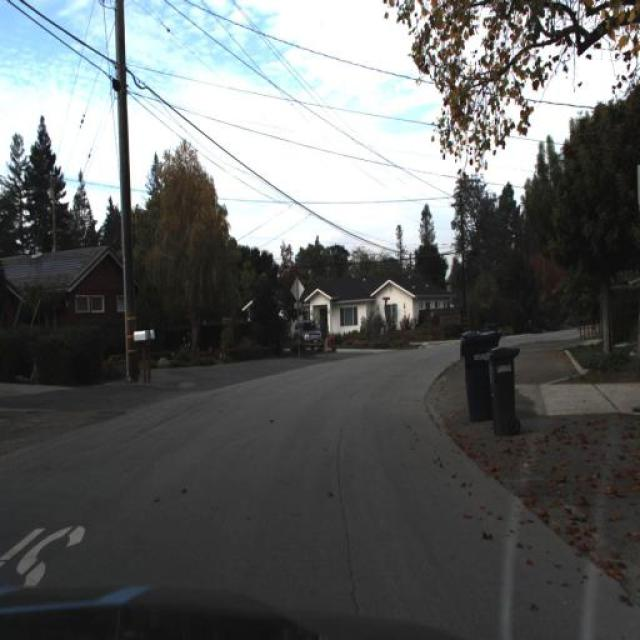car: (291, 318, 321, 351), (323, 322, 341, 354)
